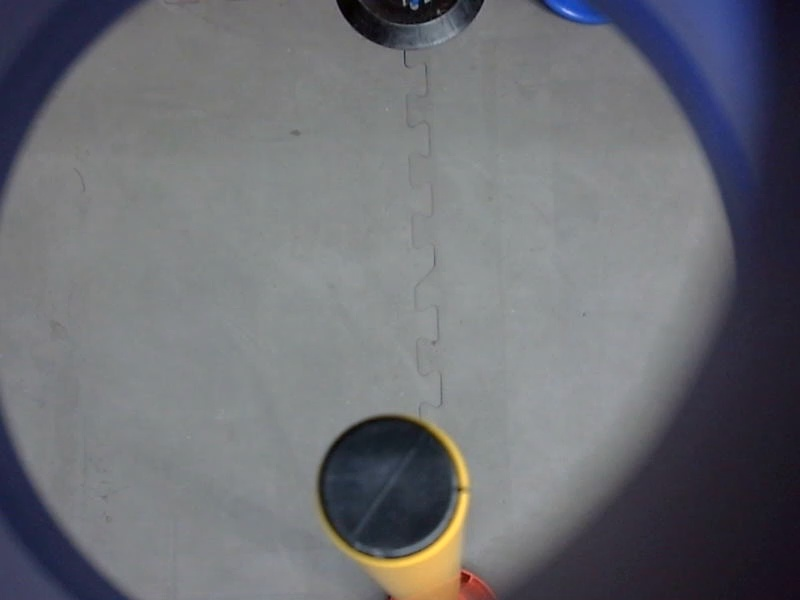tip: (304, 407, 479, 575)
